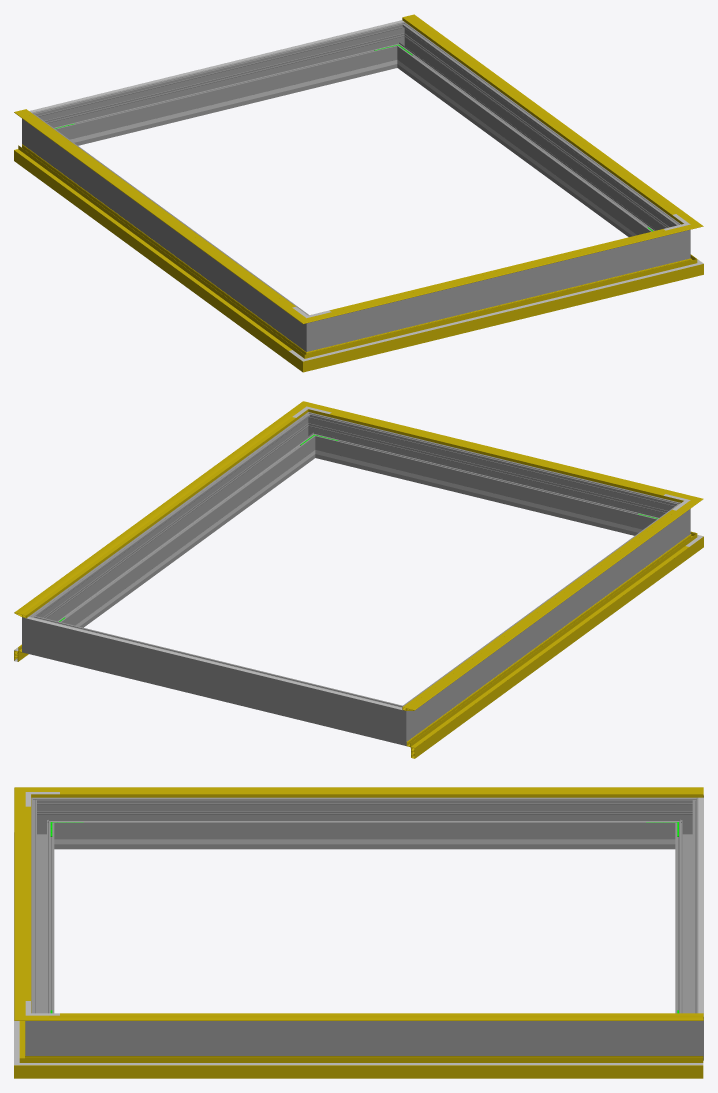
3 views of the same model, one above another, from view 1: azimuth 30°, elevation 25°; view 2: azimuth 150°, elevation 25°; view 3: azimuth 270°, elevation 25° (orthographic). The views are drawn at different scales.
Visible parts, largest first — view 1: 3DGeom-276, 3DGeom-297, 3DGeom-298, 3DGeom-268, 3DGeom-90, 3DGeom-85, 3DGeom-145, 3DGeom-147, 3DGeom-141, 3DGeom-244, 3DGeom-105, 3DGeom-154 (+10 smaller); view 2: 3DGeom-298, 3DGeom-276, 3DGeom-297, 3DGeom-268, 3DGeom-85, 3DGeom-145, 3DGeom-141, 3DGeom-147, 3DGeom-239, 3DGeom-278, 3DGeom-105, 3DGeom-152 (+7 smaller); view 3: 3DGeom-268, 3DGeom-297, 3DGeom-97, 3DGeom-147, 3DGeom-276, 3DGeom-298, 3DGeom-145, 3DGeom-232, 3DGeom-141, 3DGeom-98, 3DGeom-152, 3DGeom-154 (+7 smaller).
Boxes of the visible parts, bbox=[...] form: 3DGeom-276: bbox=[49, 27, 393, 145]; 3DGeom-297: bbox=[400, 30, 672, 236]; 3DGeom-298: bbox=[331, 236, 665, 345]; 3DGeom-268: bbox=[36, 121, 299, 340]; 3DGeom-90: bbox=[323, 262, 678, 366]; 3DGeom-85: bbox=[14, 144, 296, 361]; 3DGeom-145: bbox=[402, 14, 688, 220]; 3DGeom-147: bbox=[14, 110, 296, 313]; 3DGeom-141: bbox=[324, 228, 678, 317]; 3DGeom-244: bbox=[79, 65, 373, 141]; 3DGeom-105: bbox=[14, 149, 291, 350]; 3DGeom-154: bbox=[22, 109, 295, 307]; 3DGeom-298: bbox=[319, 417, 663, 535]; 3DGeom-276: bbox=[47, 620, 385, 739]; 3DGeom-297: bbox=[40, 421, 312, 627]; 3DGeom-268: bbox=[413, 511, 676, 731]; 3DGeom-85: bbox=[406, 541, 689, 758]; 3DGeom-145: bbox=[14, 411, 300, 618]; 3DGeom-141: bbox=[321, 407, 677, 500]; 3DGeom-147: bbox=[402, 507, 688, 710]; 3DGeom-239: bbox=[339, 456, 633, 531]; 3DGeom-278: bbox=[381, 698, 420, 745]; 3DGeom-105: bbox=[411, 546, 688, 748]; 3DGeom-152: bbox=[22, 417, 295, 615]; 3DGeom-268: bbox=[60, 797, 669, 849]; 3DGeom-297: bbox=[60, 1021, 669, 1055]; 3DGeom-97: bbox=[48, 1056, 703, 1078]; 3DGeom-147: bbox=[49, 787, 703, 797]; 3DGeom-276: bbox=[675, 810, 698, 1013]; 3DGeom-298: bbox=[31, 810, 54, 1013]; 3DGeom-145: bbox=[49, 1015, 703, 1020]; 3DGeom-232: bbox=[87, 839, 641, 844]; 3DGeom-141: bbox=[14, 802, 31, 1005]; 3DGeom-98: bbox=[48, 1063, 703, 1065]; 3DGeom-152: bbox=[60, 1013, 703, 1015]; 3DGeom-154: bbox=[60, 792, 703, 794].
Size of the model in its own units: 2.44 by 0.2829 by 3.05.
